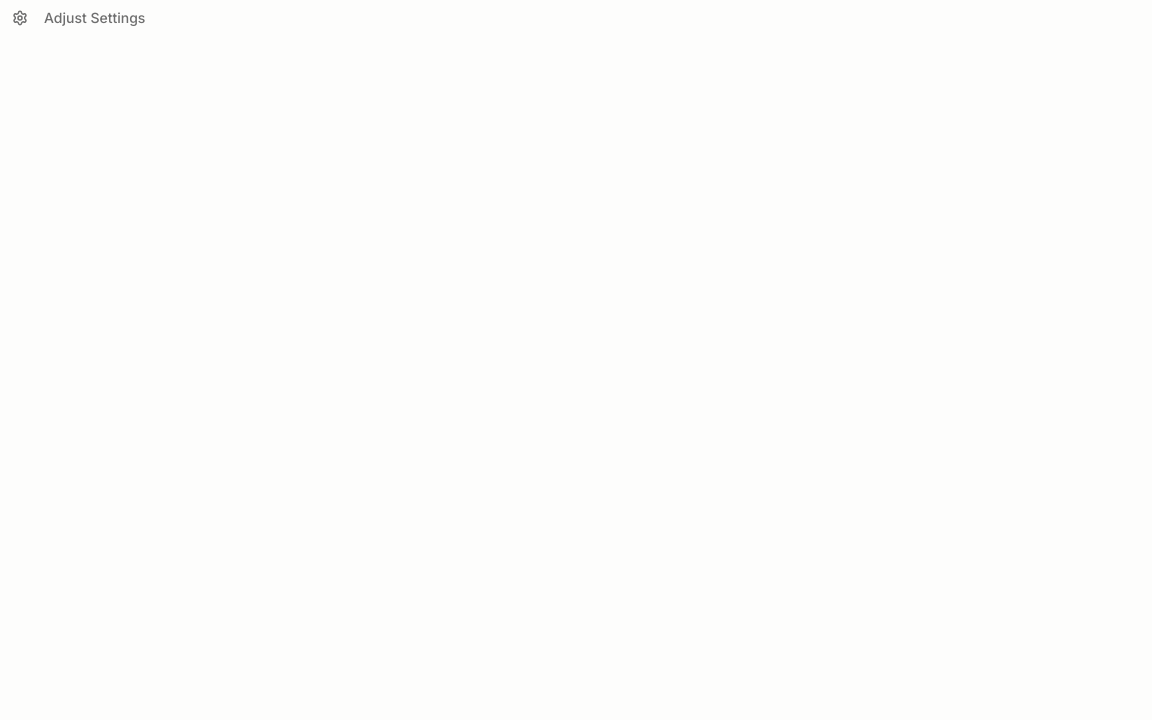
it: FocusSettingsDialog › shows error for invalid duration
Click the button "Adjust Settings".
click(79, 18)  # box [0,0,157,36]
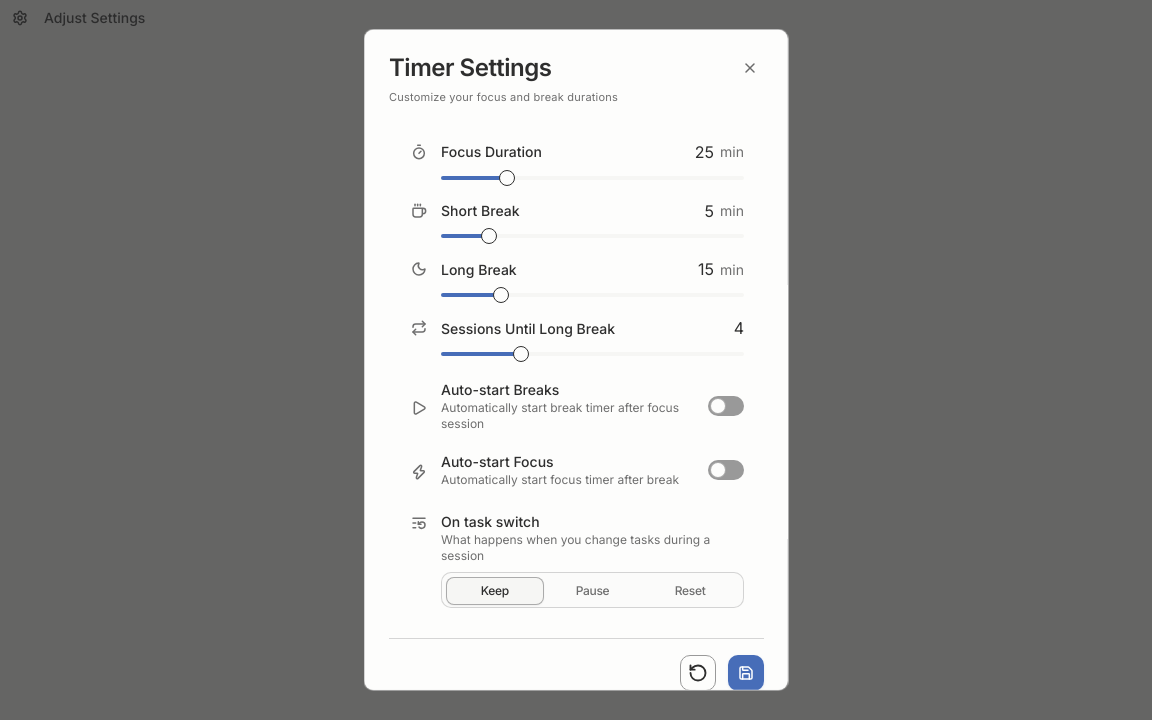
Replace the text in the number field named "Focus Duration" with "0" at point(694, 152), box [674,140,714,163]
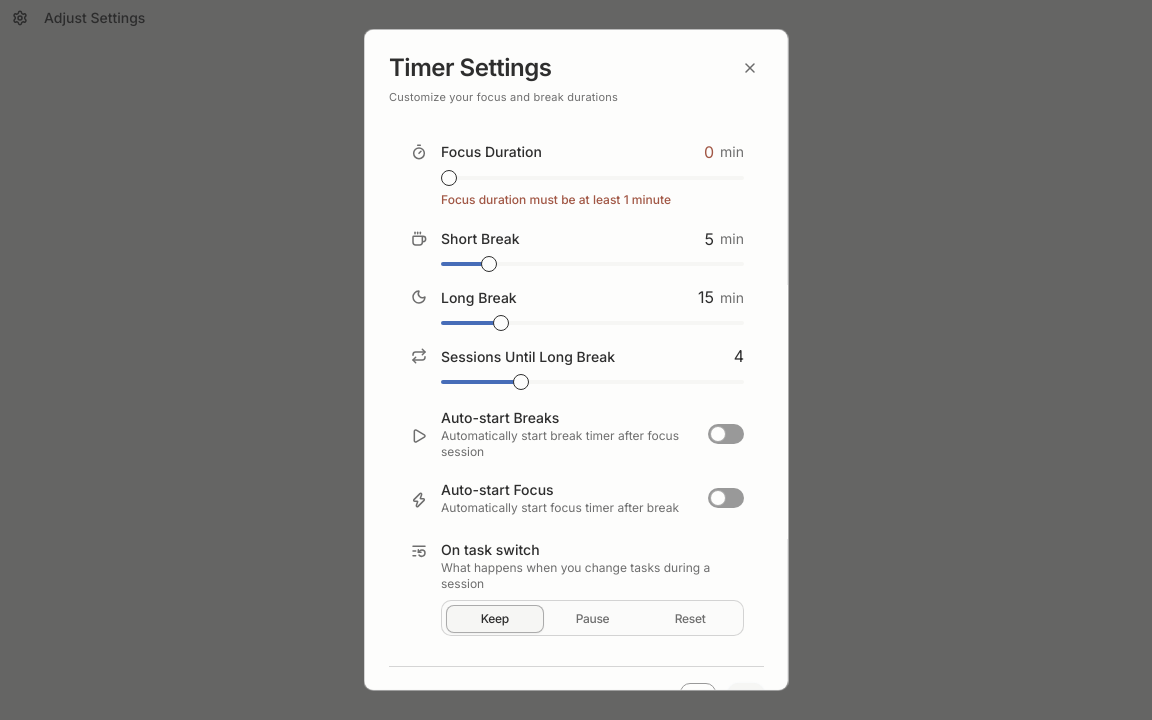
Now the text "Focus duration must be at least 1 minute" is shown, box [440,191,670,206]
